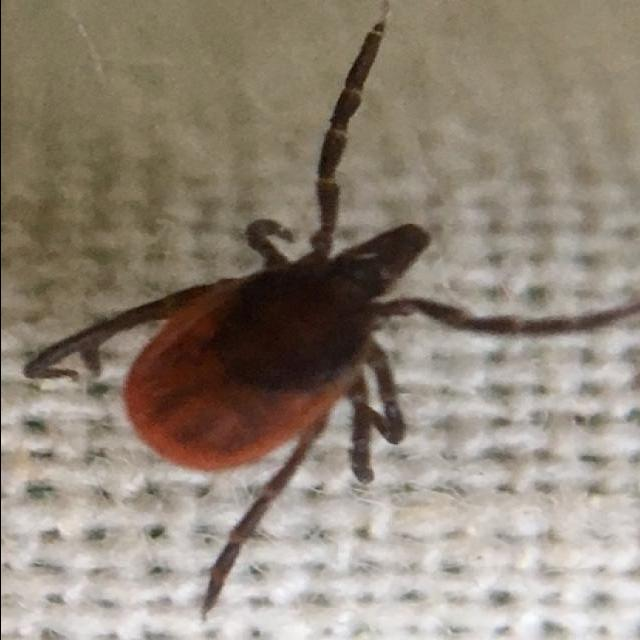Ixodes Ricinus-F: (25, 29, 625, 612)
